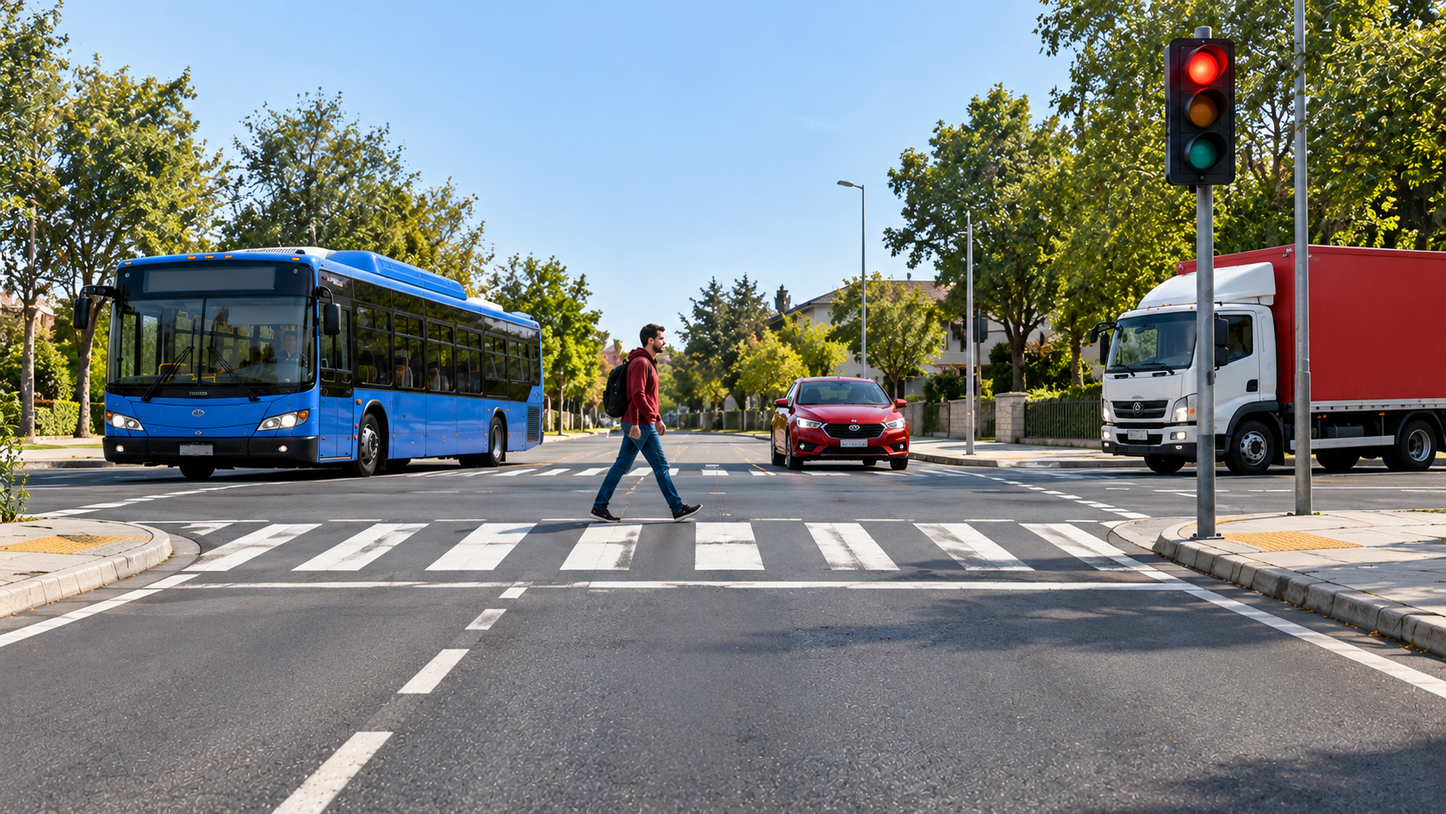bus: (69, 244, 547, 486)
car: (766, 372, 917, 480), (735, 402, 793, 453), (590, 405, 650, 451)
person: (583, 317, 707, 528)
traffic_light: (1160, 22, 1239, 192)
truck: (1081, 240, 1445, 484)
zebra_crossing: (0, 497, 1445, 594)
